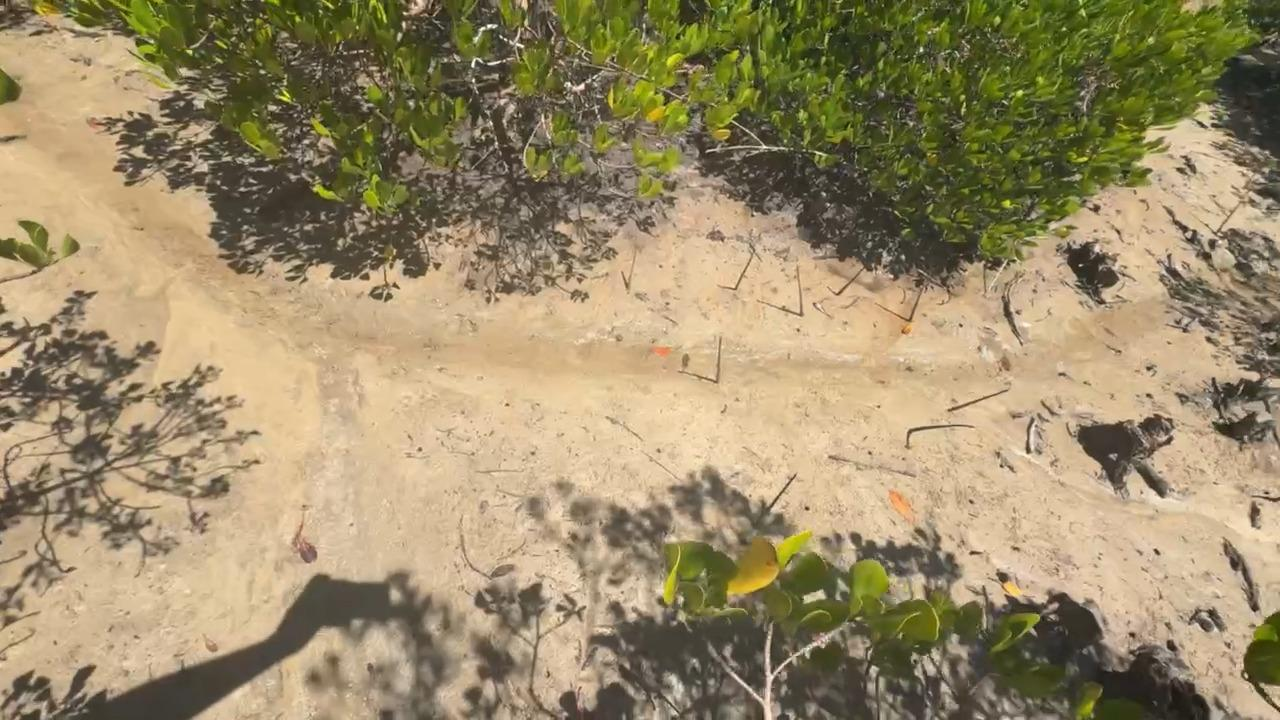Tree: (947, 390, 1008, 413), (765, 474, 797, 514), (1214, 203, 1241, 235), (836, 267, 865, 296), (985, 259, 1008, 295), (908, 424, 975, 435), (735, 253, 754, 290), (908, 289, 924, 322), (796, 265, 805, 317), (627, 251, 636, 294), (715, 336, 722, 383), (1271, 496, 1280, 503)
